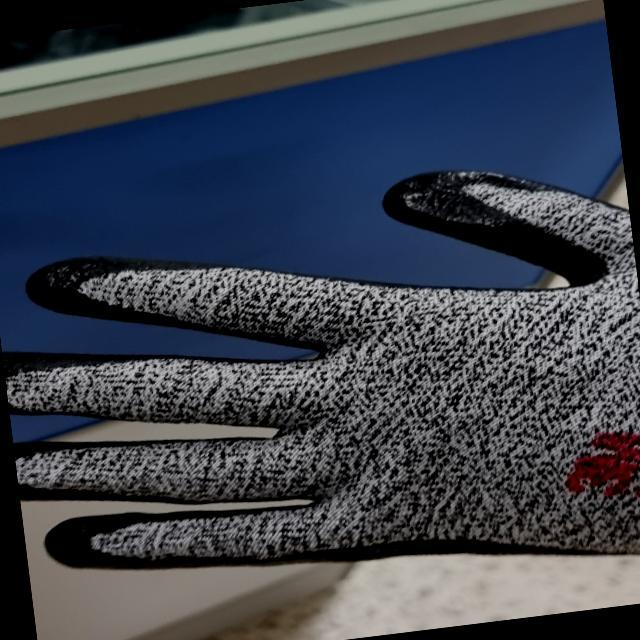Gloves: (7, 166, 640, 561)
